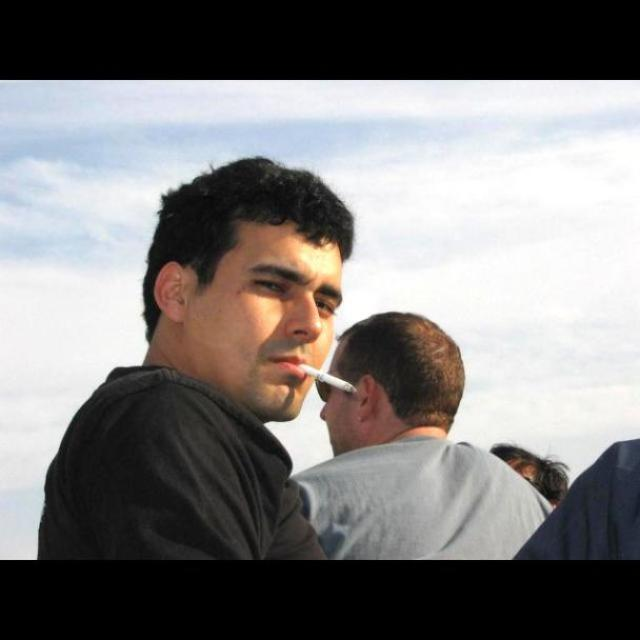rokok: (279, 352, 359, 396)
